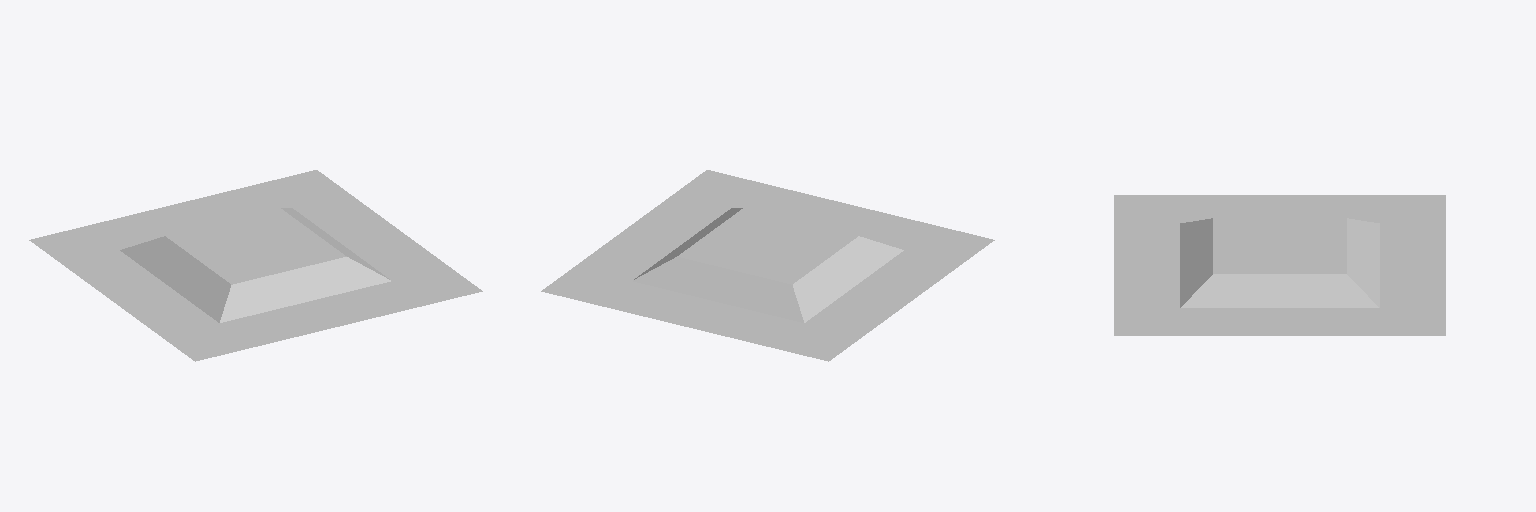
Rendered from world2.obj.
The picture shows the model from 3 angles: view 1: azimuth 30°, elevation 25°; view 2: azimuth 150°, elevation 25°; view 3: azimuth 270°, elevation 25°; orthographic projection.
Parts seen in each view (by area): view 1: Grid; view 2: Grid; view 3: Grid.
Part boxes in pixels (bbox=[...]): Grid: bbox=[29, 170, 482, 361]; Grid: bbox=[541, 170, 994, 361]; Grid: bbox=[1114, 195, 1445, 335].
Bounding box in the file's own units: 10 × 0.6431 × 10.